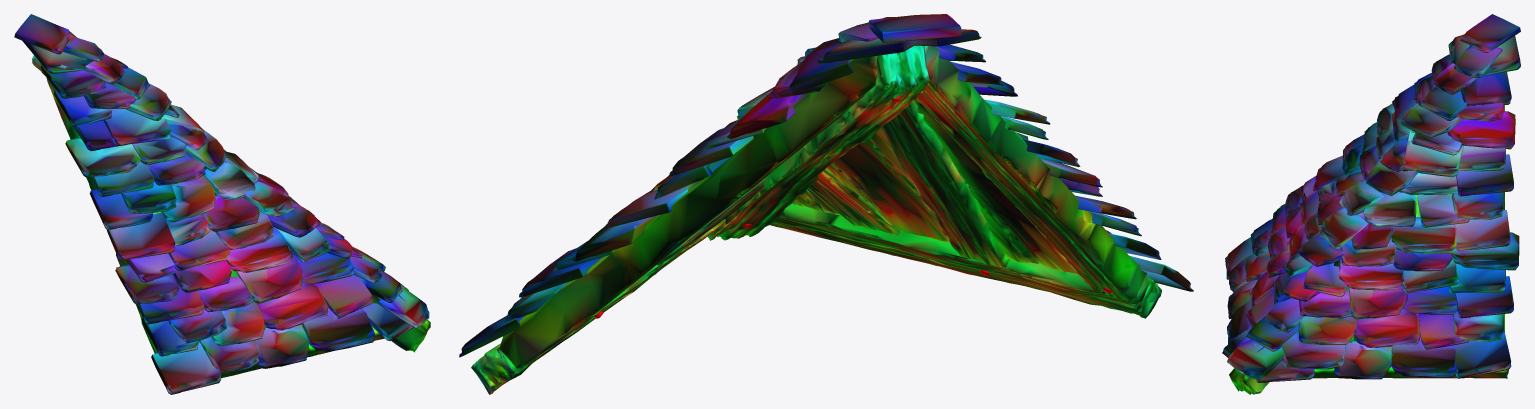
The model's file is SM_Stone_RoofCorner_Out.fbx.
The picture shows the model from 3 angles, left to right: view 1: azimuth 30°, elevation 25°; view 2: azimuth 150°, elevation 25°; view 3: azimuth 270°, elevation 25°; orthographic projection. The views are drawn at different scales.
Parts seen in each view (by area): view 1: SM_Stone_RoofCorner_Out_LOD0; view 2: SM_Stone_RoofCorner_Out_LOD0; view 3: SM_Stone_RoofCorner_Out_LOD0.
Part boxes in pixels (x1,y1,x2,y2): SM_Stone_RoofCorner_Out_LOD0: [14, 14, 430, 394]; SM_Stone_RoofCorner_Out_LOD0: [459, 14, 1193, 394]; SM_Stone_RoofCorner_Out_LOD0: [1222, 14, 1520, 394].
Size of the model in its own units: 358 by 350 by 337.
